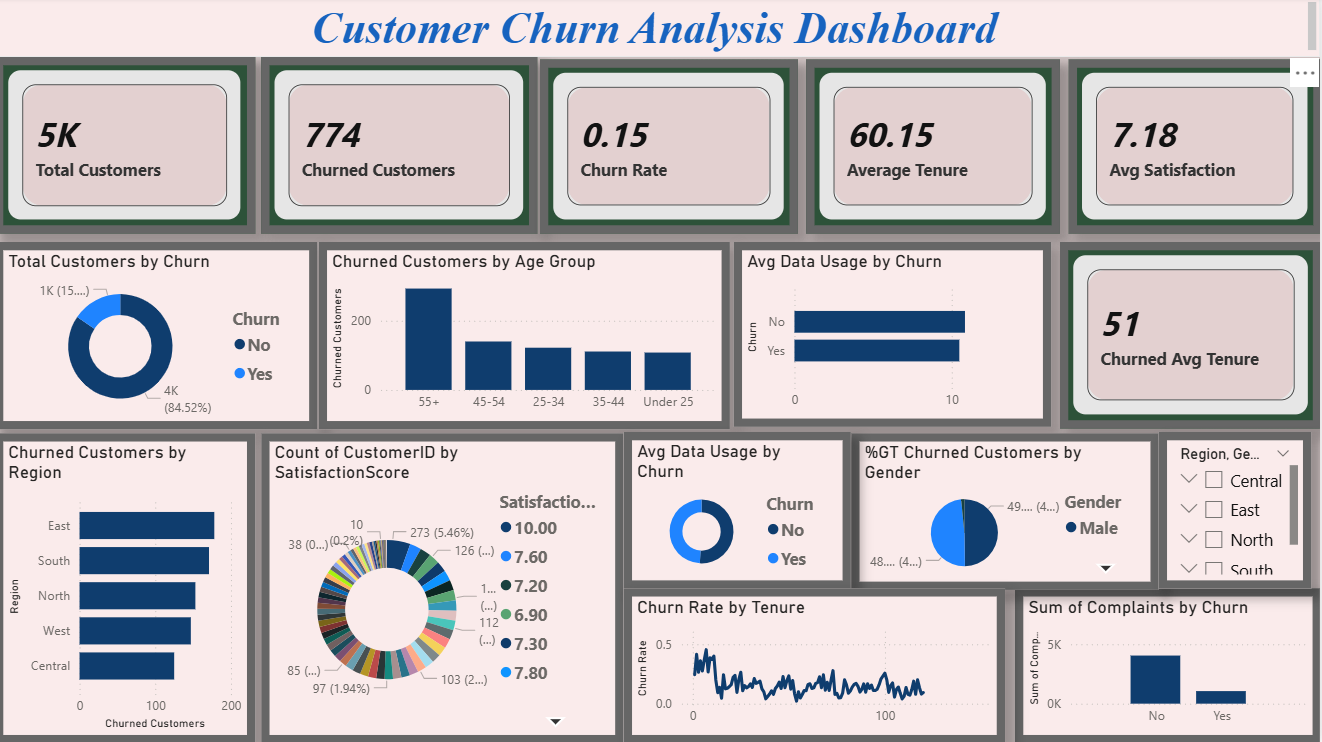

What the dashboard file says about the page in this screenshot:
{"tool":"powerbi","page":{"name":"Page 1","canvas":[1280,720],"ordinal":0},"visuals":[{"type":"cardVisual","fields":{"Data":["Customers.Total Customers"]},"box":[0,57.9,250.9,170.1],"z":0},{"type":"cardVisual","fields":{"Data":["Customers.Churned Customers"]},"box":[257,57.9,266.6,170.1],"z":1000},{"type":"cardVisual","fields":{"Data":["Customers.Churn Rate"]},"box":[526,60.3,248.5,167.7],"z":2000},{"type":"cardVisual","fields":{"Data":["Customers.Average Tenure"]},"box":[783,60.3,244.9,167.7],"z":3000},{"type":"cardVisual","fields":{"Data":["Feedback.Avg Satisfaction"]},"box":[1036.3,60.3,243.7,167.7],"z":4000},{"type":"textbox","box":[0,0,1280,57.9],"z":5000},{"type":"donutChart","fields":{"Category":["Customers.Churn"],"Y":["Customers.Total Customers"]},"box":[0,236.5,311.3,181],"z":6000},{"type":"clusteredColumnChart","fields":{"Category":["Customers.Age Group"],"Y":["Customers.Churned Customers"]},"box":[312.5,236.5,396.9,181],"z":7000},{"type":"clusteredBarChart","fields":{"Y":["Usage.Avg Data Usage"],"Category":["Customers.Churn"]},"box":[713,236.5,306.4,178.6],"z":8000},{"type":"cardVisual","fields":{"Data":["Customers.Churned Avg Tenure"]},"box":[1027.9,236.5,252.1,179.8],"z":9000},{"type":"clusteredBarChart","fields":{"Category":["Customers.Region"],"Y":["Customers.Churned Customers"]},"box":[0,421,250.9,299.2],"z":10000},{"type":"donutChart","fields":{"Category":["Feedback.SatisfactionScore"],"Y":["CountNonNull(Customers.CustomerID)"]},"box":[257,421,349.9,299.2],"z":11000},{"type":"columnChart","fields":{"Category":["Customers.Churn"],"Y":["Sum(Feedback.Complaints)"]},"box":[984.5,570.6,295.6,149.6],"z":12000},{"type":"pieChart","fields":{"Category":["Customers.Gender"],"Y":["Customers.Churned Customers"]},"box":[826.4,421,296.8,150.8],"z":13000},{"type":"donutChart","fields":{"Category":["Customers.Churn"],"Y":["Usage.Avg Data Usage"]},"box":[606.8,419.8,219.6,150.8],"z":14000},{"type":"lineChart","fields":{"Category":["Customers.Tenure"],"Y":["Customers.Churn Rate"]},"box":[606.8,570.6,368,149.6],"z":15000},{"type":"slicer","fields":{"Values":["Customers.Region","Customers.Gender","Customers.Age Group","Customers.Churn"]},"box":[1123.2,419.8,147.2,150.8],"z":16000}]}

Visuals, with their boxes in screenshot pixels (x1, y1, x2, y2), scaled from the page's 1280x720 canvas onto the 1322x742 screenshot:
cardVisual - Customers.Total Customers: x1=0, y1=60, x2=259, y2=235
cardVisual - Customers.Churned Customers: x1=265, y1=60, x2=541, y2=235
cardVisual - Customers.Churn Rate: x1=543, y1=62, x2=800, y2=235
cardVisual - Customers.Average Tenure: x1=809, y1=62, x2=1062, y2=235
cardVisual - Feedback.Avg Satisfaction: x1=1070, y1=62, x2=1321, y2=235
textbox: x1=0, y1=0, x2=1321, y2=60
donutChart - Customers.Churn x Customers.Total Customers: x1=0, y1=244, x2=322, y2=430
clusteredColumnChart - Customers.Age Group x Customers.Churned Customers: x1=323, y1=244, x2=733, y2=430
clusteredBarChart - Usage.Avg Data Usage x Customers.Churn: x1=736, y1=244, x2=1053, y2=428
cardVisual - Customers.Churned Avg Tenure: x1=1062, y1=244, x2=1321, y2=429
clusteredBarChart - Customers.Region x Customers.Churned Customers: x1=0, y1=434, x2=259, y2=741
donutChart - Feedback.SatisfactionScore x CountNonNull(Customers.CustomerID): x1=265, y1=434, x2=627, y2=741
columnChart - Customers.Churn x Sum(Feedback.Complaints): x1=1017, y1=588, x2=1321, y2=741
pieChart - Customers.Gender x Customers.Churned Customers: x1=854, y1=434, x2=1160, y2=589
donutChart - Customers.Churn x Usage.Avg Data Usage: x1=627, y1=433, x2=854, y2=588
lineChart - Customers.Tenure x Customers.Churn Rate: x1=627, y1=588, x2=1007, y2=741
slicer - Customers.Region x Customers.Gender: x1=1160, y1=433, x2=1312, y2=588
